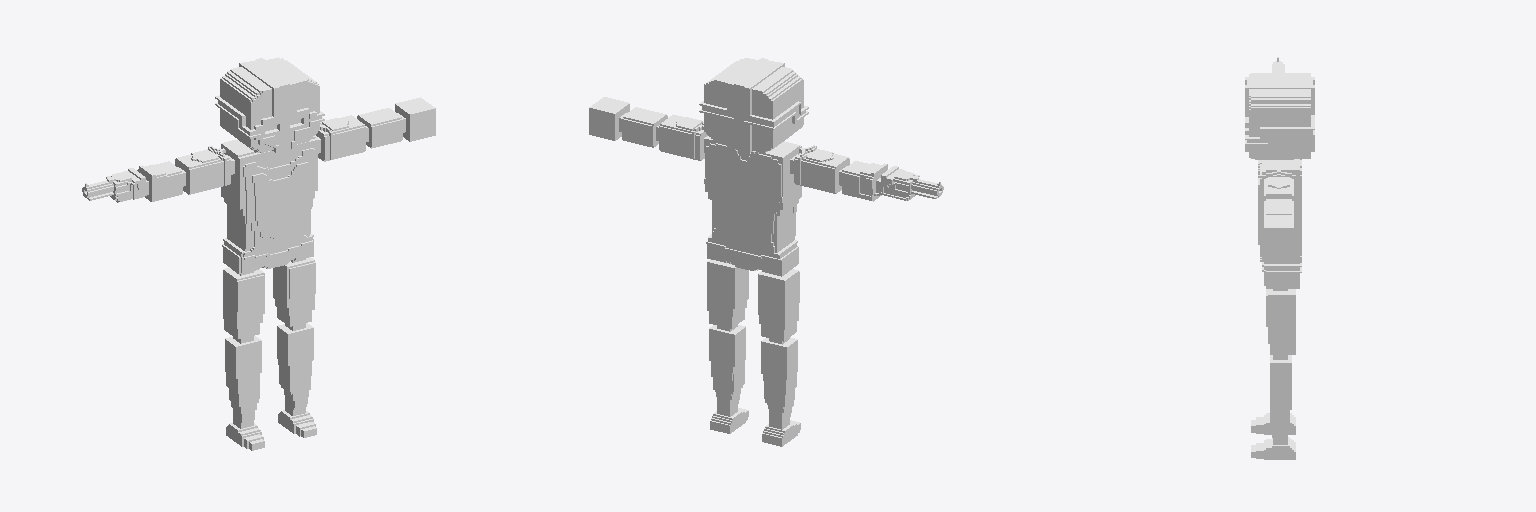
The model's file is ddProtagonista.obj.
3 renders of one model, left to right at view 1: azimuth 30°, elevation 25°; view 2: azimuth 150°, elevation 25°; view 3: azimuth 270°, elevation 25°, orthographic.
Visible parts, largest first — view 1: object 1; view 2: object 1; view 3: object 1.
Part boxes in pixels (bbox=[...]): object 1: bbox=[82, 57, 435, 450]; object 1: bbox=[589, 58, 943, 446]; object 1: bbox=[1245, 57, 1314, 459].
Size of the model in its own units: 21.1 by 21.1 by 3.7.